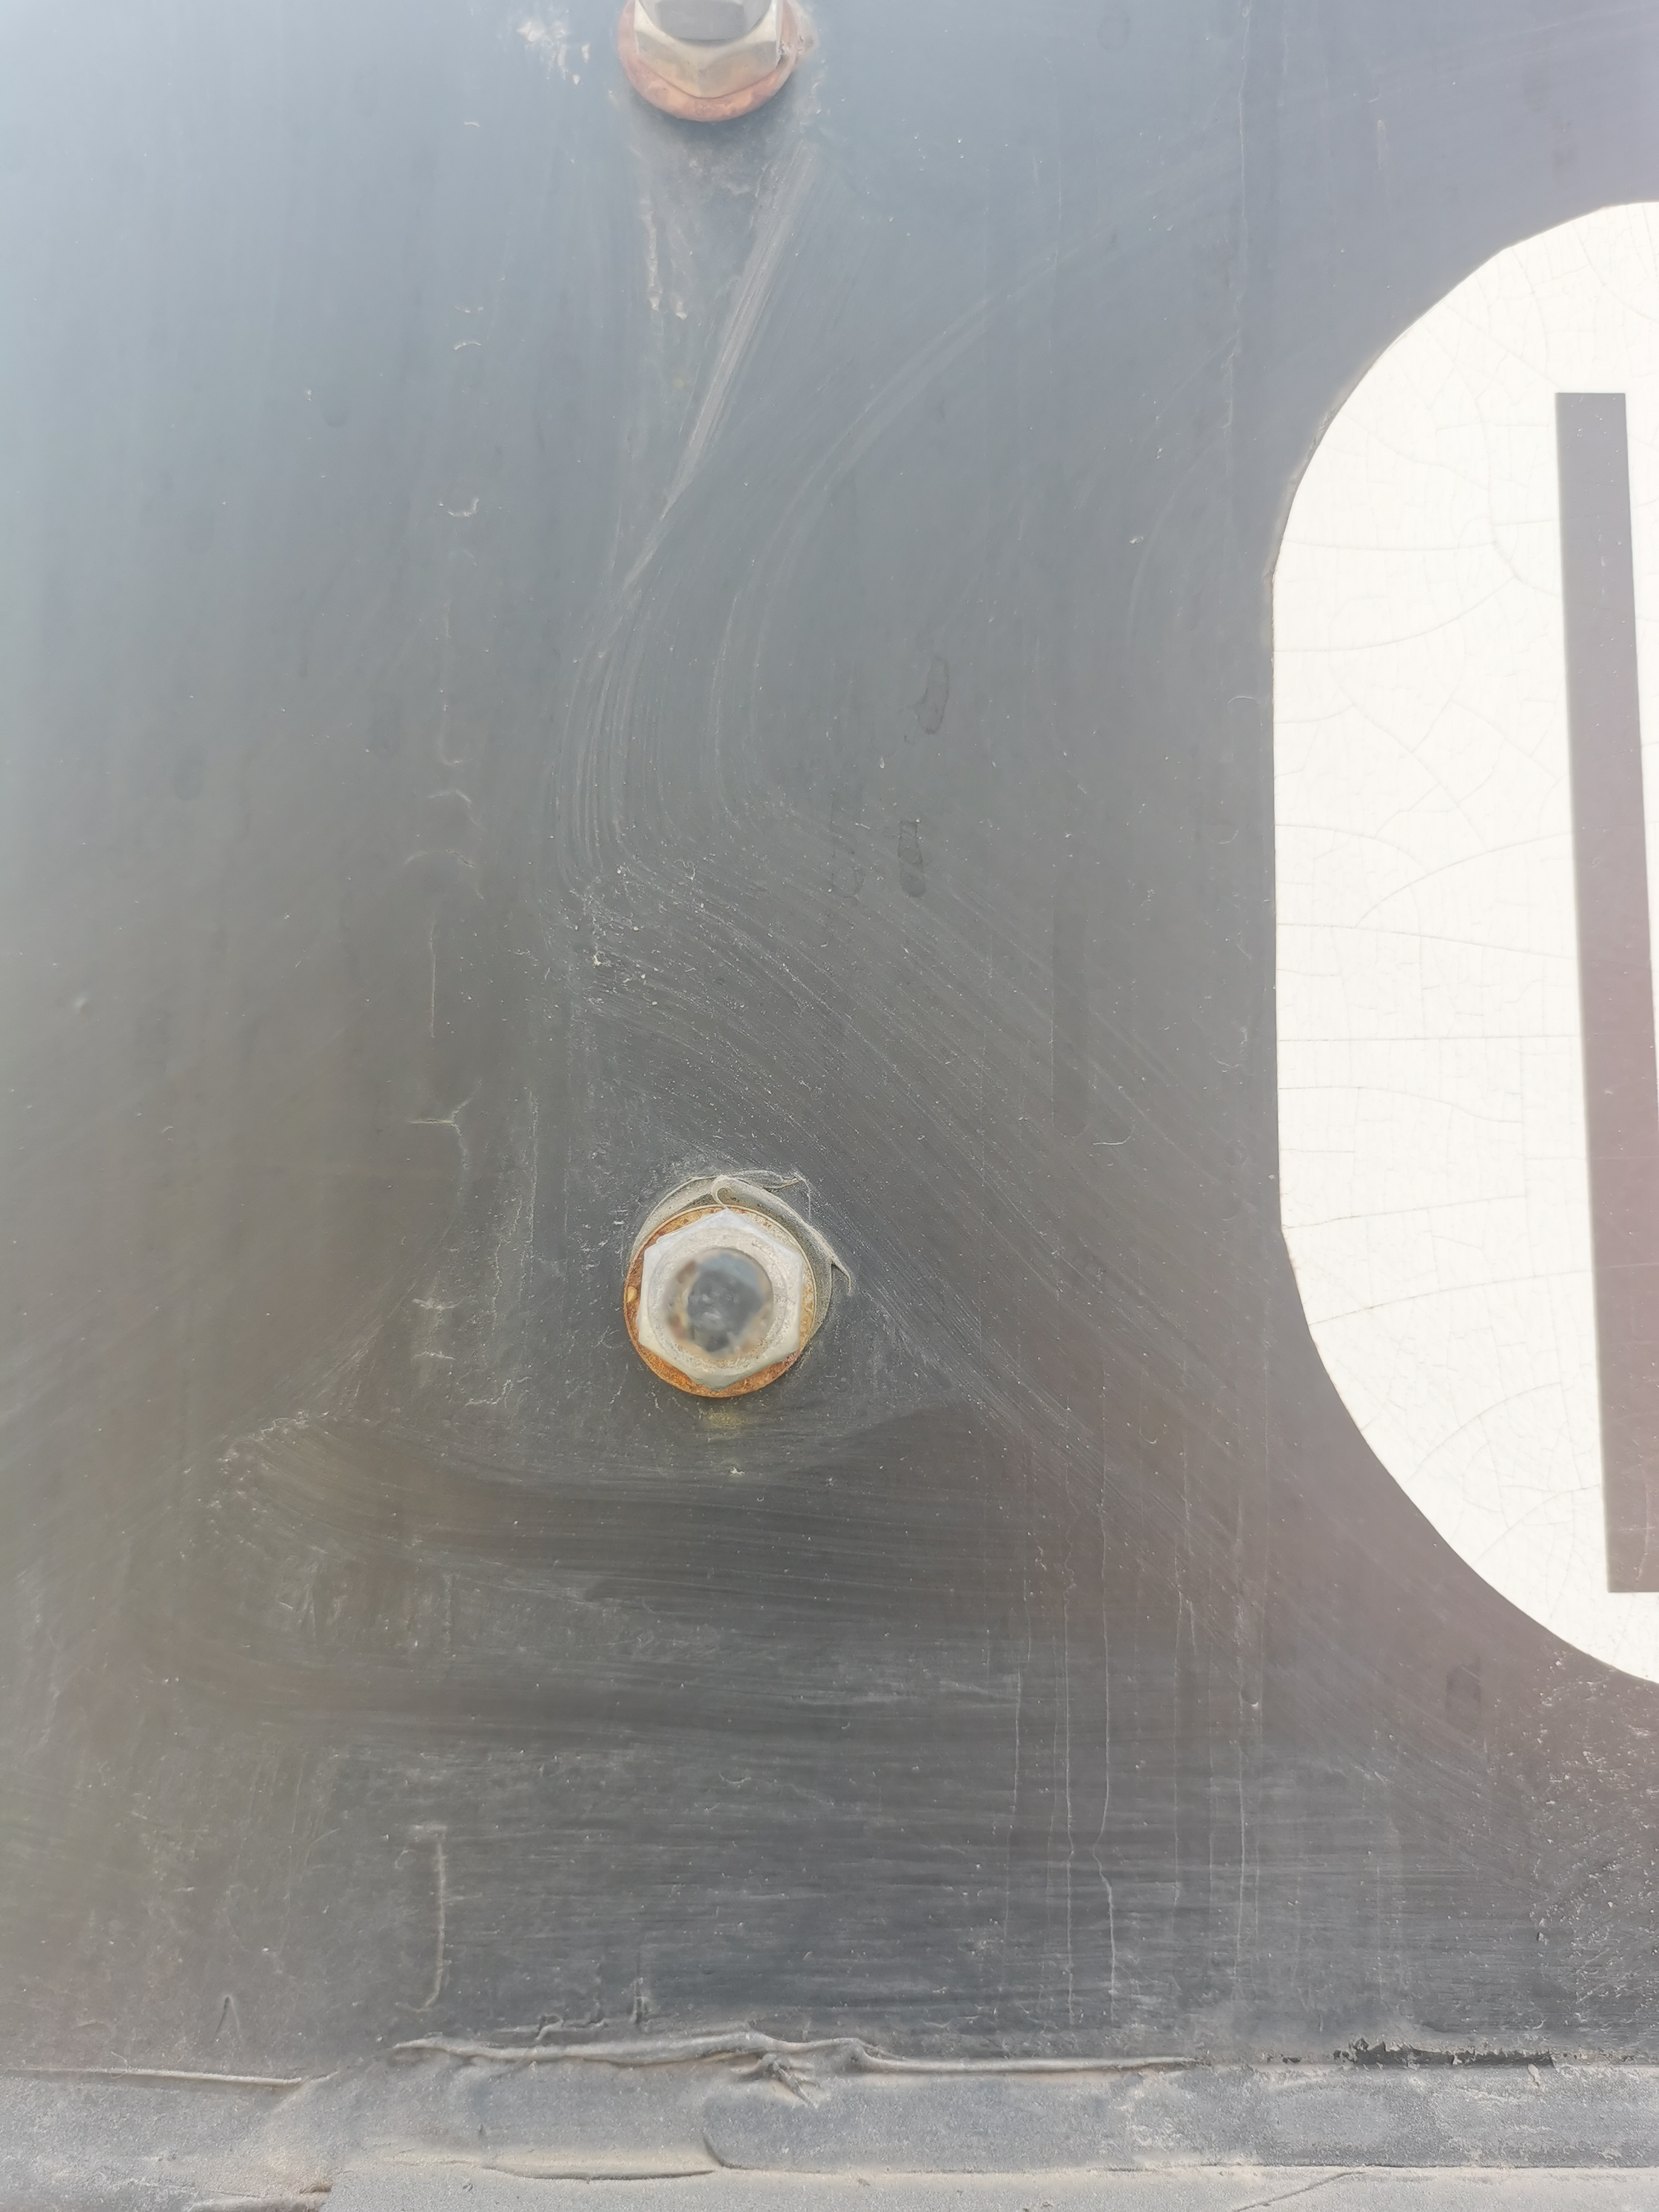bolt_b: (627, 1200, 810, 1402)
